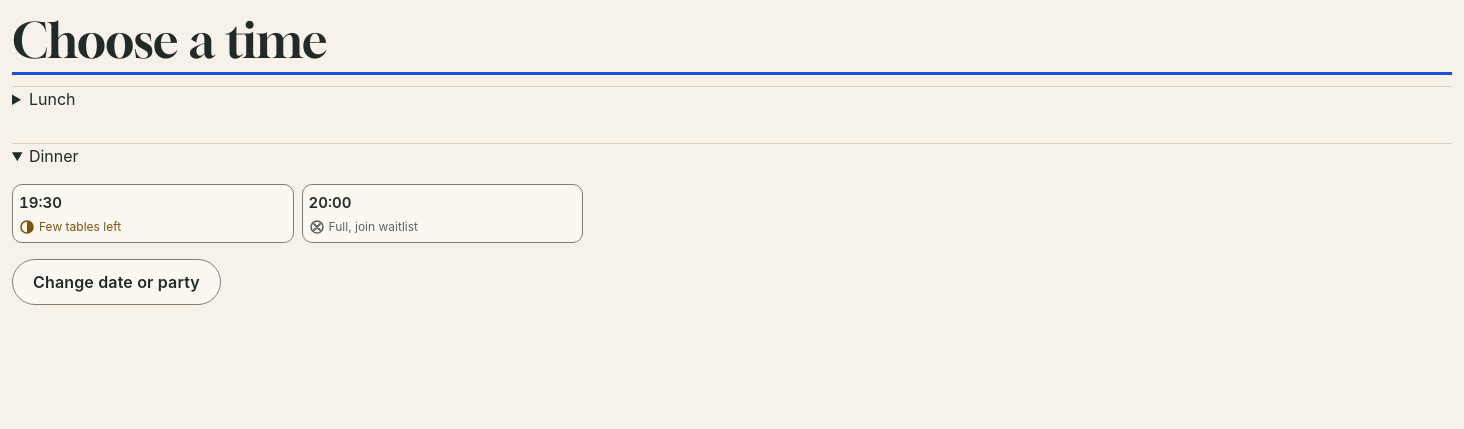
blocks the previous day's choice while new availability is loading
Later steps or results of the test are not shown.
Click the button "19:30 Few tables left" at (40, 202), box [12,184,294,243]
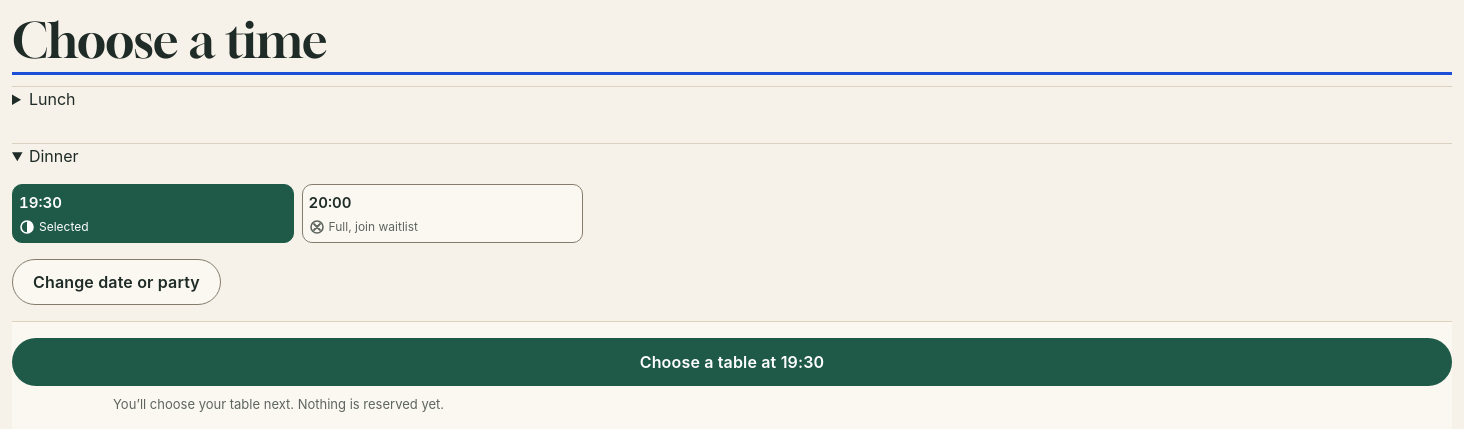
Result: the button "Choose a table at 19:30" is shown at [12,338,1452,386]
